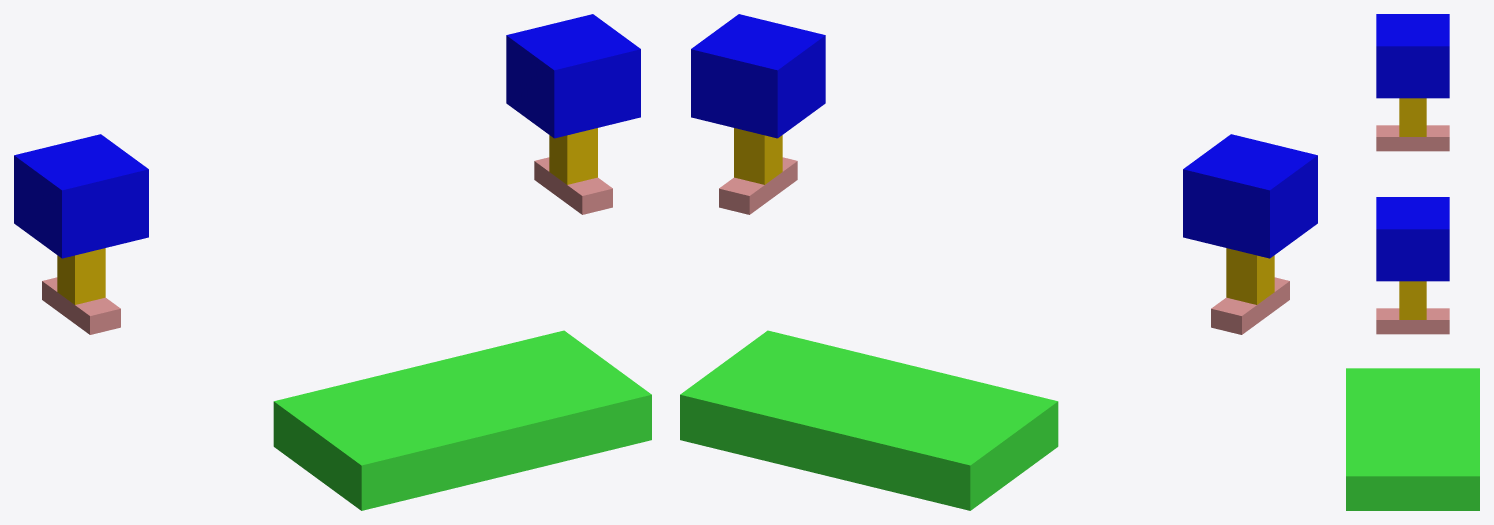
The model's file is sky130_fd_sc_hd__fill_1.obj.
3 views of the same model, side by side, from view 1: azimuth 30°, elevation 25°; view 2: azimuth 150°, elevation 25°; view 3: azimuth 270°, elevation 25° (orthographic). The views are drawn at different scales.
Parts seen in each view (by area): view 1: nwell, metal1, mcon, li; view 2: nwell, metal1, mcon, li; view 3: nwell, metal1, li, mcon.
Boxes of the visible parts, x1=… form: nwell: x1=273, y1=330, x2=651, y2=510; metal1: x1=14, y1=14, x2=640, y2=258; mcon: x1=57, y1=128, x2=597, y2=304; li: x1=42, y1=157, x2=612, y2=334; nwell: x1=680, y1=330, x2=1058, y2=510; metal1: x1=691, y1=14, x2=1317, y2=258; mcon: x1=734, y1=128, x2=1274, y2=304; li: x1=719, y1=157, x2=1289, y2=334; nwell: x1=1346, y1=368, x2=1479, y2=510; metal1: x1=1376, y1=14, x2=1449, y2=281; li: x1=1376, y1=125, x2=1449, y2=334; mcon: x1=1399, y1=98, x2=1426, y2=319.
Bounding box in the file's own units: 3.2 × 1.98 × 0.84.
